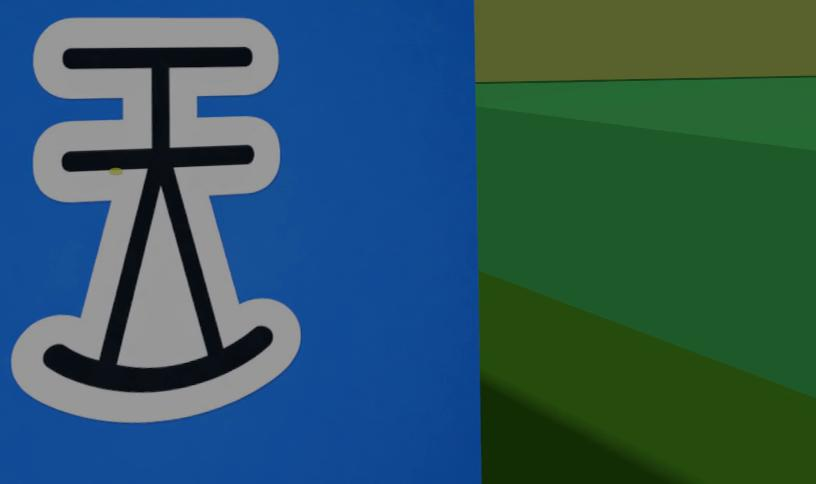KFS_REAL: (0, 0, 480, 483), (12, 18, 299, 422)
